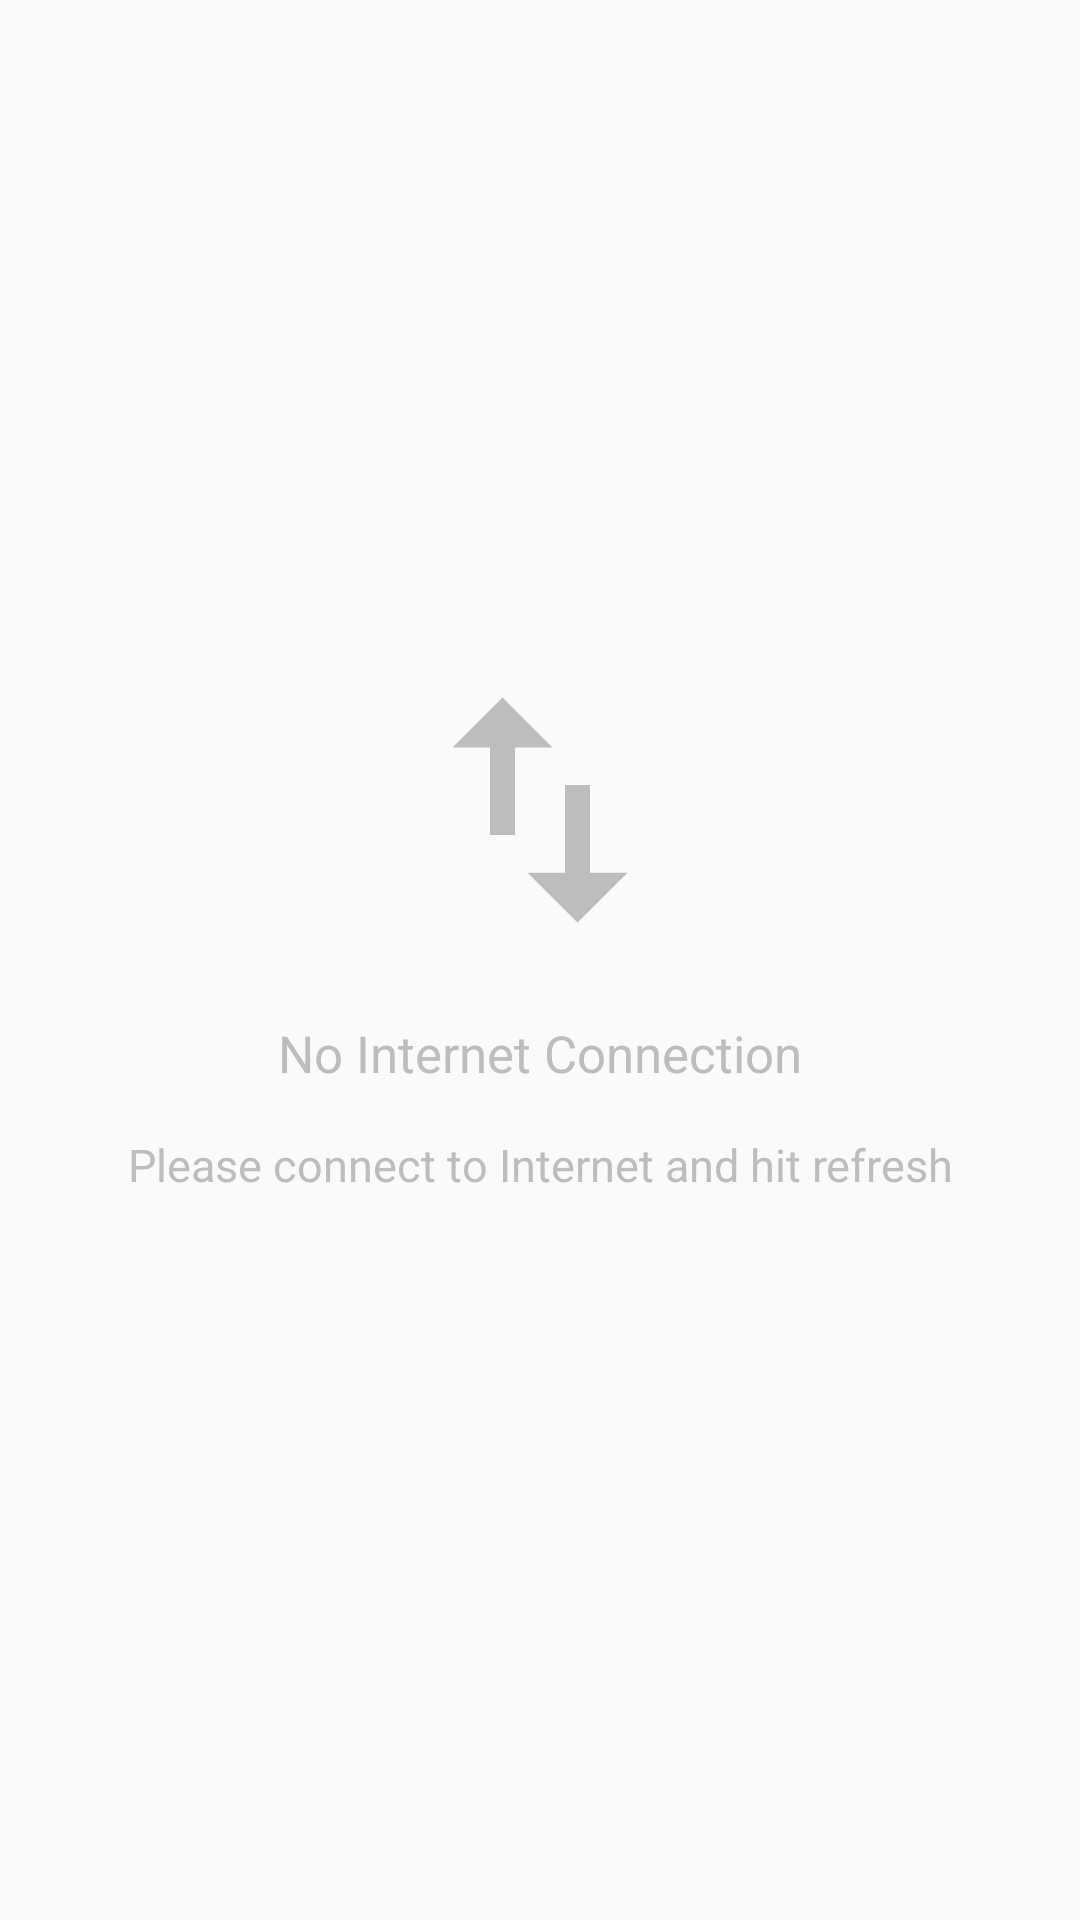

Where to tap for icons on this 1080 x 1920 app screen, as [x,y]:
import export: [540,810]
